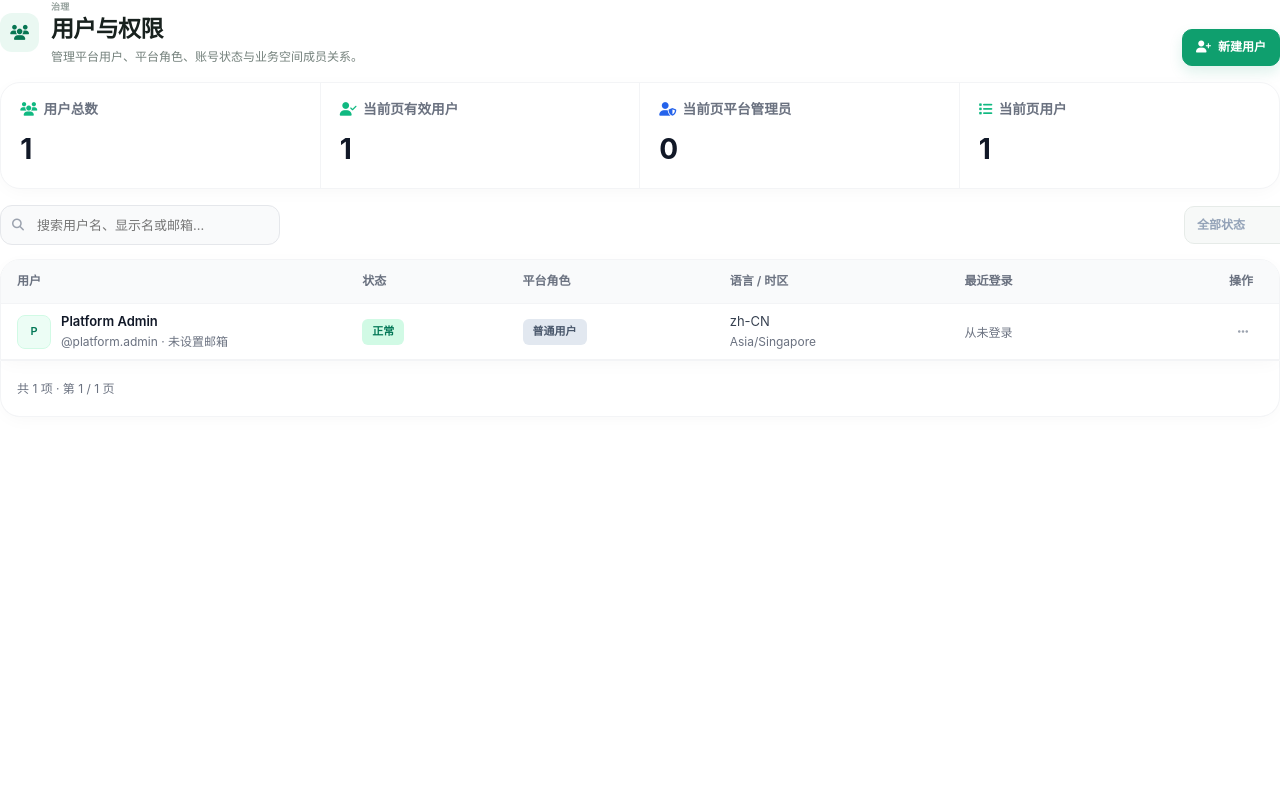
Test: user access management view › uses required dropdowns for language and timezone fields
The width and height of the screenshot is (1280, 800).
Click the button "新建用户" at x=1231, y=47, box [1182, 29, 1279, 66]
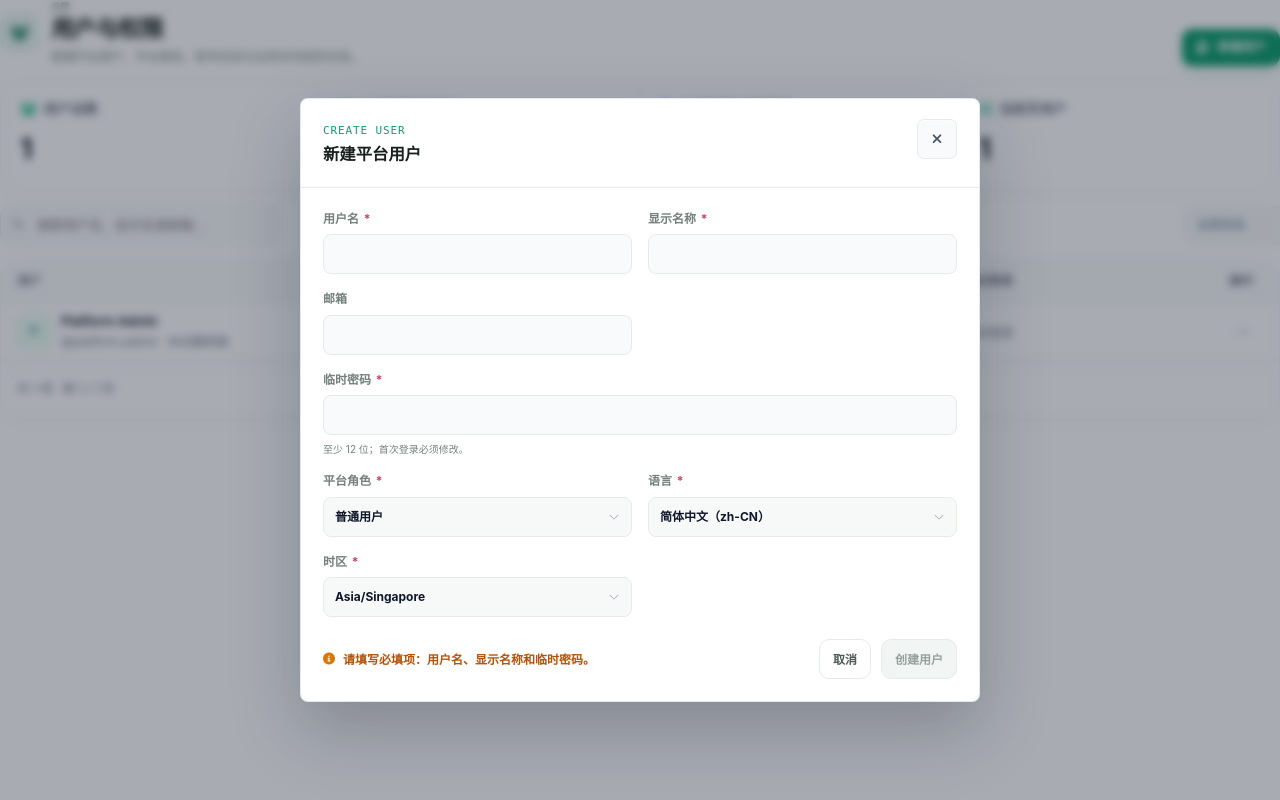
Result: the number of elements with class "user-field-required" is 6 at [364, 211, 370, 226]; [701, 211, 708, 226]; [376, 372, 382, 387]; [376, 474, 382, 488]; [677, 474, 684, 488]; [352, 554, 358, 569]
Click the button "取消" at x=845, y=659, box [819, 639, 871, 679]
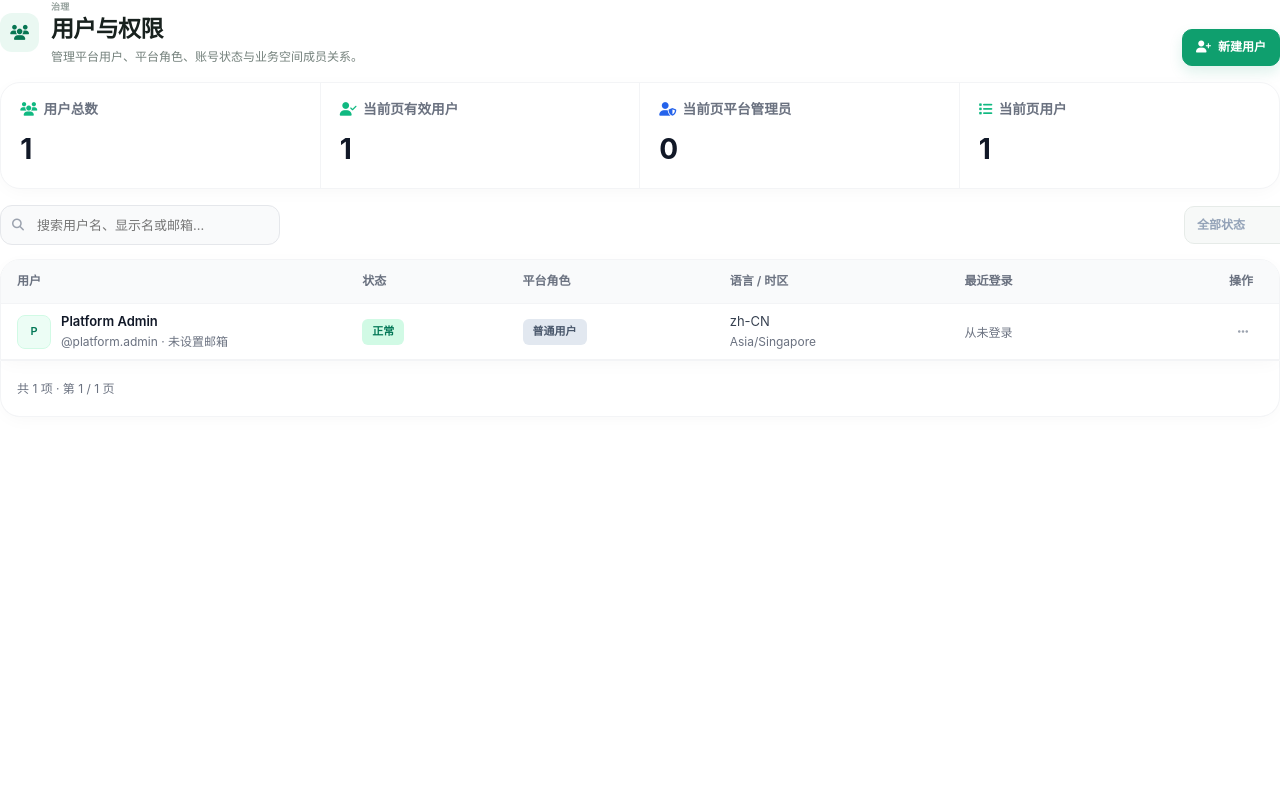
Click the button named "用户安全操作" at x=1243, y=332, box [1225, 314, 1261, 350]
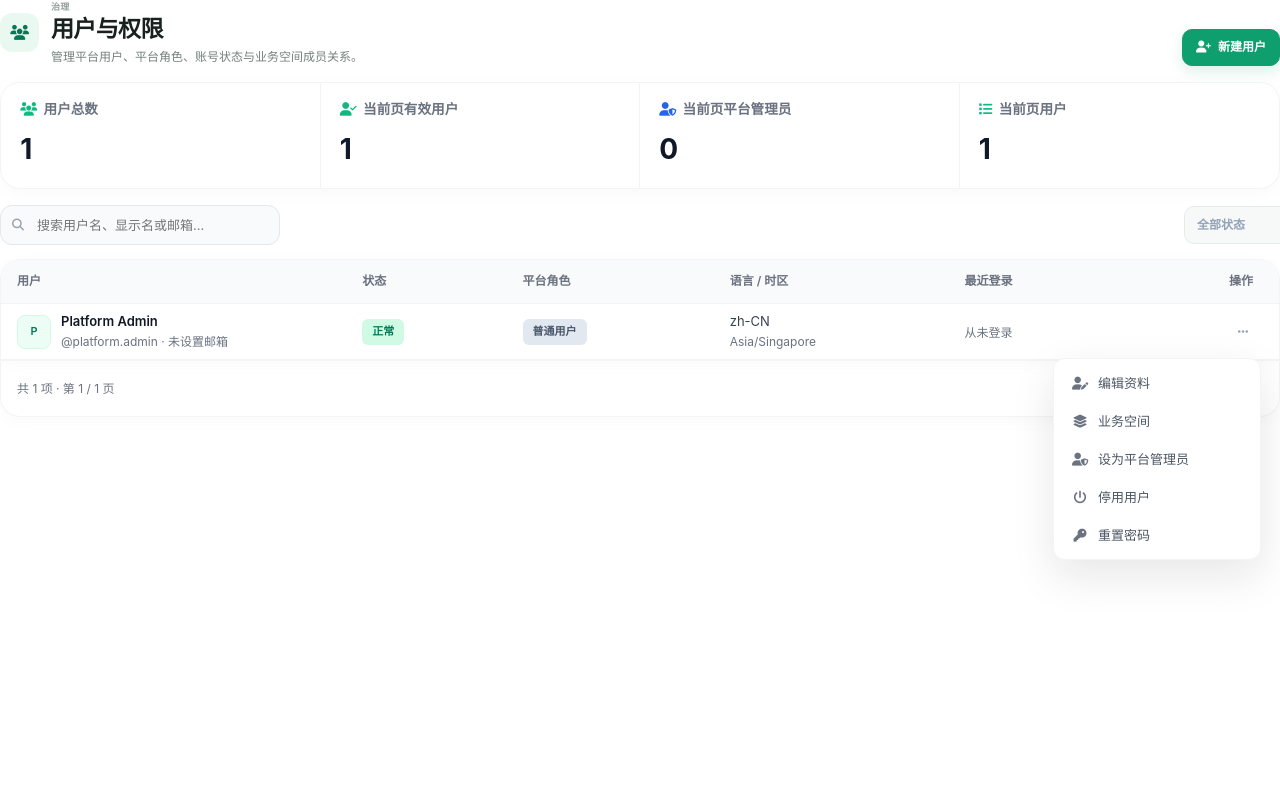
Click the menu item "编辑资料" at x=1157, y=383, box [1060, 365, 1254, 401]
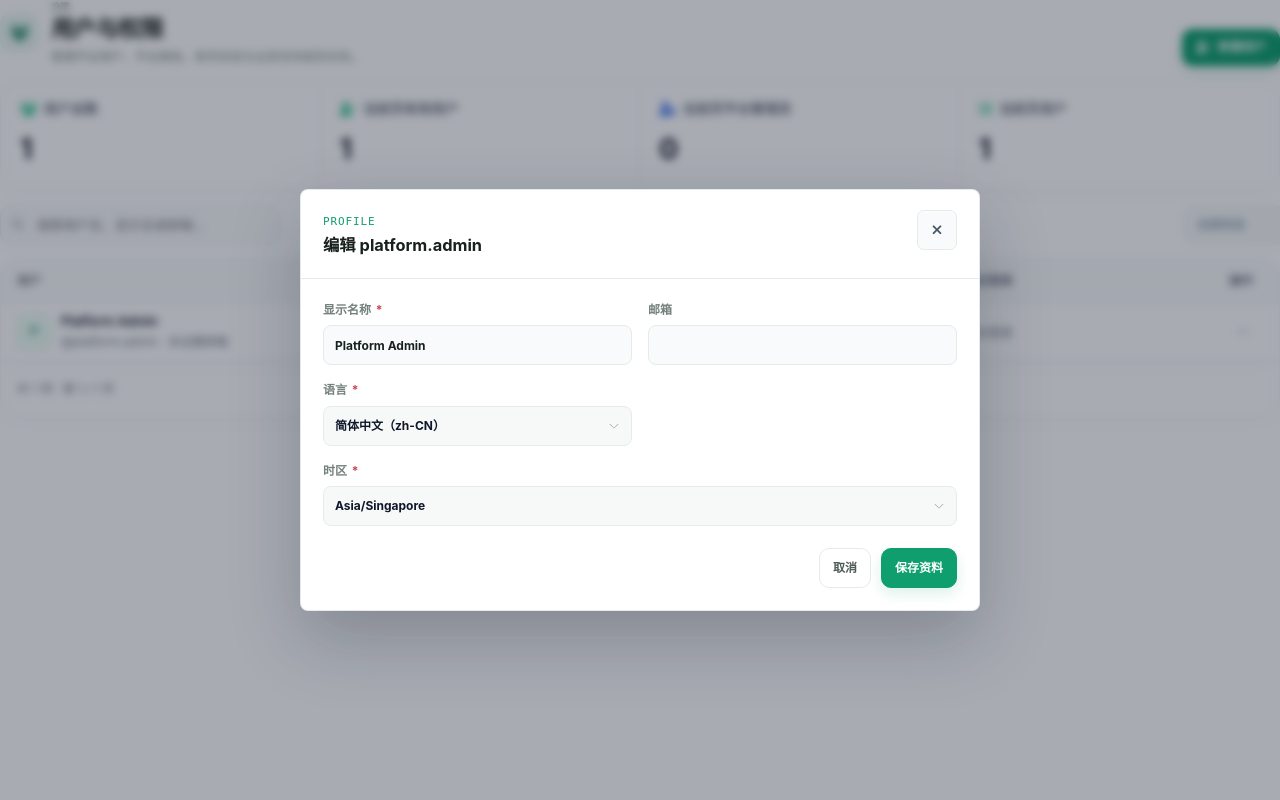
Result: the number of elements with class "user-field-required" is 3 at [376, 302, 382, 317]; [352, 382, 358, 397]; [352, 463, 358, 478]
